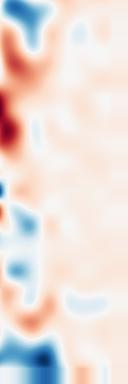filament: (0, 85, 35, 161)
